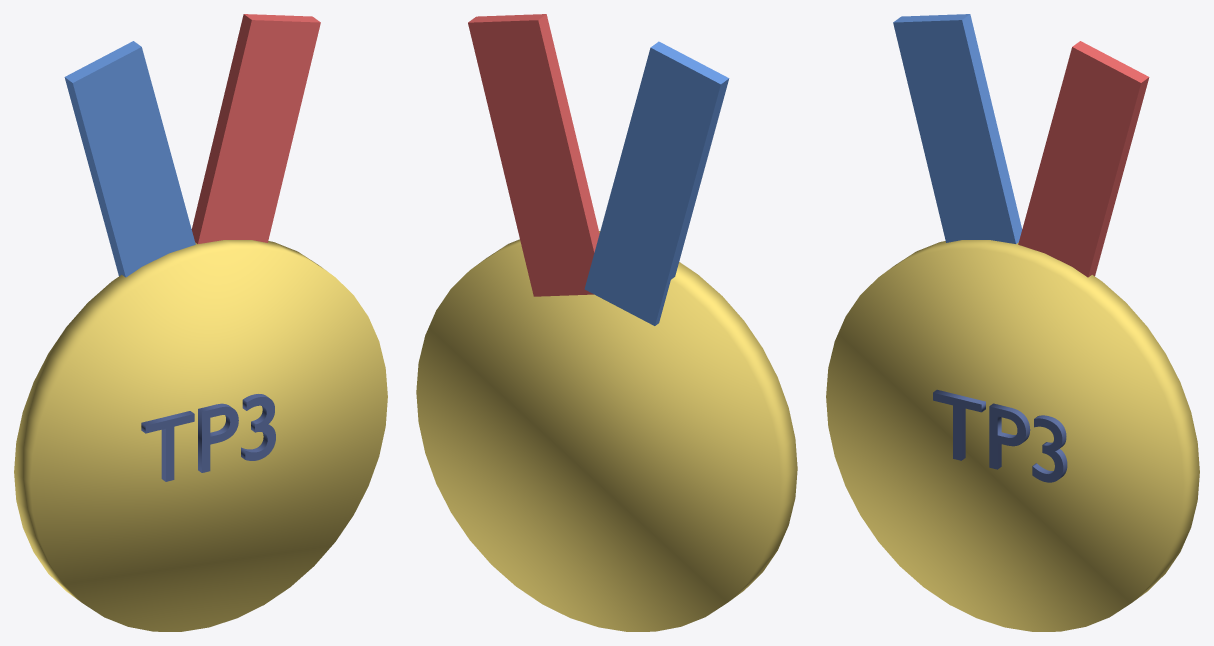
The model's file is ui_medal_tp3.glb.
3 views of the same model, side by side, from view 1: azimuth 30°, elevation 25°; view 2: azimuth 150°, elevation 25°; view 3: azimuth 330°, elevation 25° (orthographic).
Visible parts, largest first — view 1: medal_disc, medal_ribbon1, medal_ribbon0, medal_num; view 2: medal_disc, medal_ribbon1, medal_ribbon0; view 3: medal_disc, medal_ribbon0, medal_ribbon1, medal_num.
Part boxes in pixels (x1,y1,x2,y2): medal_disc: (14,240,387,631); medal_ribbon1: (191,14,320,243); medal_ribbon0: (64,41,195,277); medal_num: (141,394,275,481); medal_disc: (416,231,797,631); medal_ribbon1: (468,14,599,296); medal_ribbon0: (584,41,729,325); medal_disc: (826,240,1199,631); medal_ribbon0: (893,14,1022,243); medal_ribbon1: (1018,41,1149,277); medal_num: (933,389,1067,482).
Size of the model in its own units: 0.05 by 0.0782 by 0.006.
